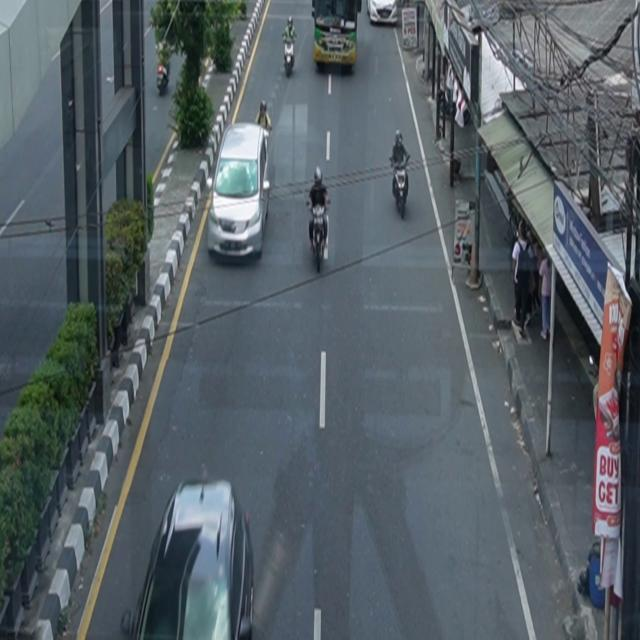bus: (312, 1, 361, 74)
car: (208, 122, 271, 263)
